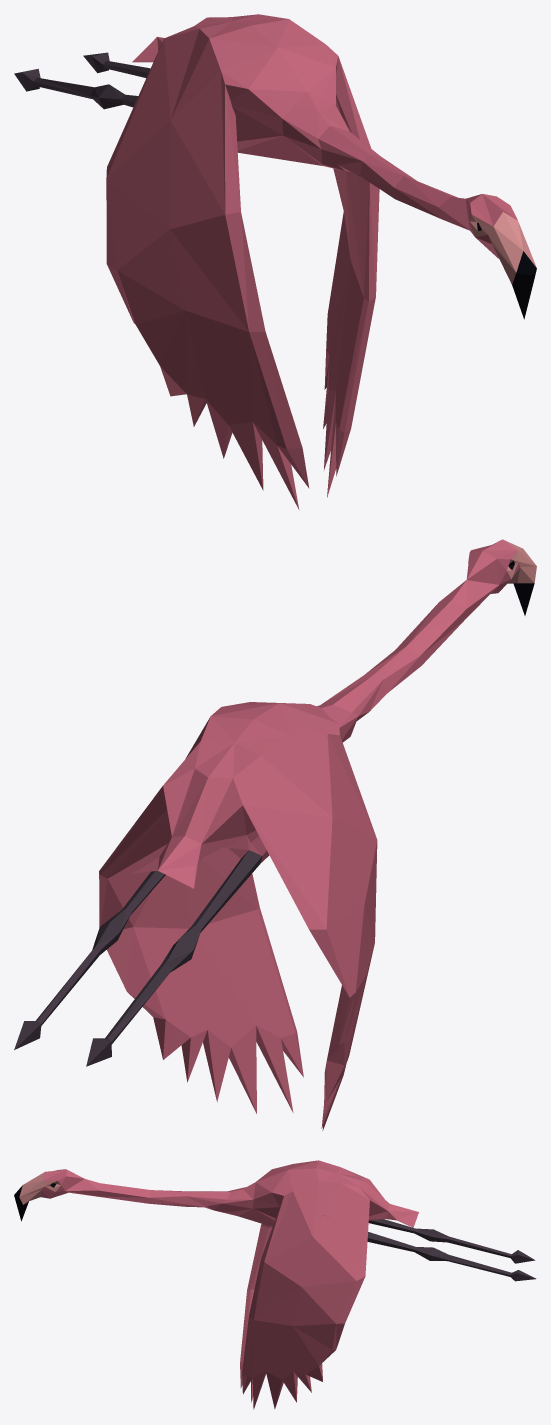
Rendered from bird.glb.
The picture shows the model from 3 angles, top to bottom: view 1: azimuth 30°, elevation 25°; view 2: azimuth 150°, elevation 25°; view 3: azimuth 270°, elevation 25°; orthographic projection. The views are drawn at different scales.
Visible parts, largest first — view 1: Object_0; view 2: Object_0; view 3: Object_0.
Part boxes in pixels (<box>): Object_0: <box>14,14,536,509</box>; Object_0: <box>14,539,536,1130</box>; Object_0: <box>14,1160,536,1409</box>.
Size of the model in its own units: 52.2 by 89.1 by 177.
